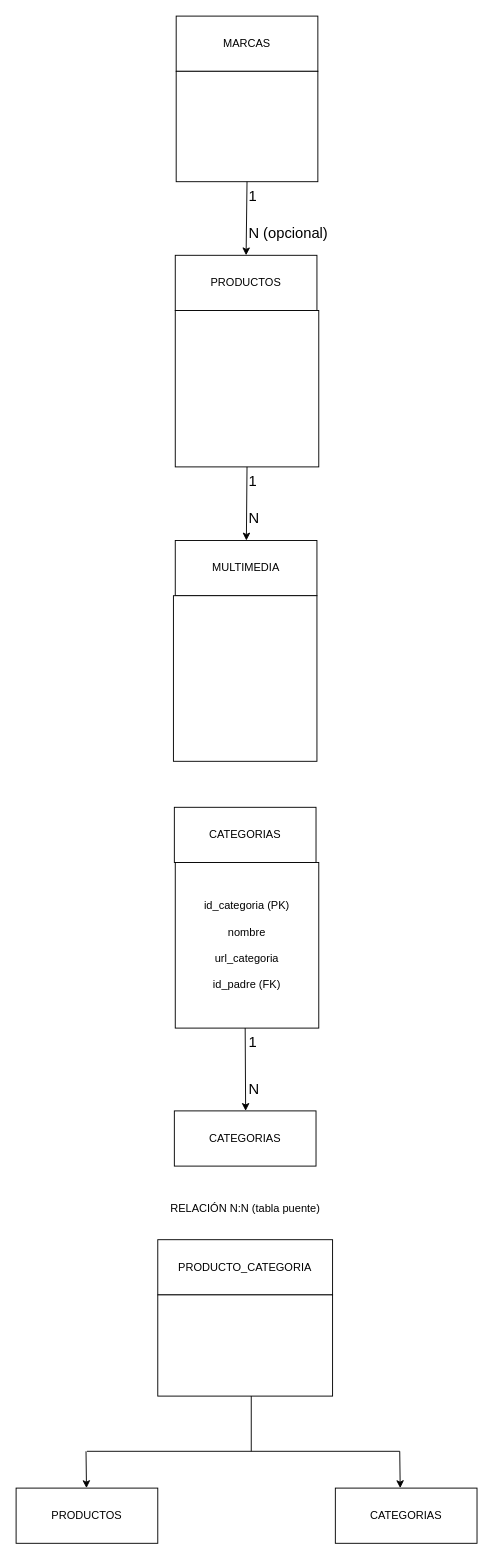
The diagram is 493 pixels wide and 1559 high, and some of its shapes have lost their labels. Each missing label, with the centre of its shape:
id_marca (PK) nombre url_marca: point (246, 126)
id_multimedia (PK) url_recurso tipo sku (FK): point (244, 678)
sku (FK, PK) id_categoria (FK, PK): point (245, 1345)
sku (PK) nombre descripcion precio id_marca (FK): point (246, 388)
